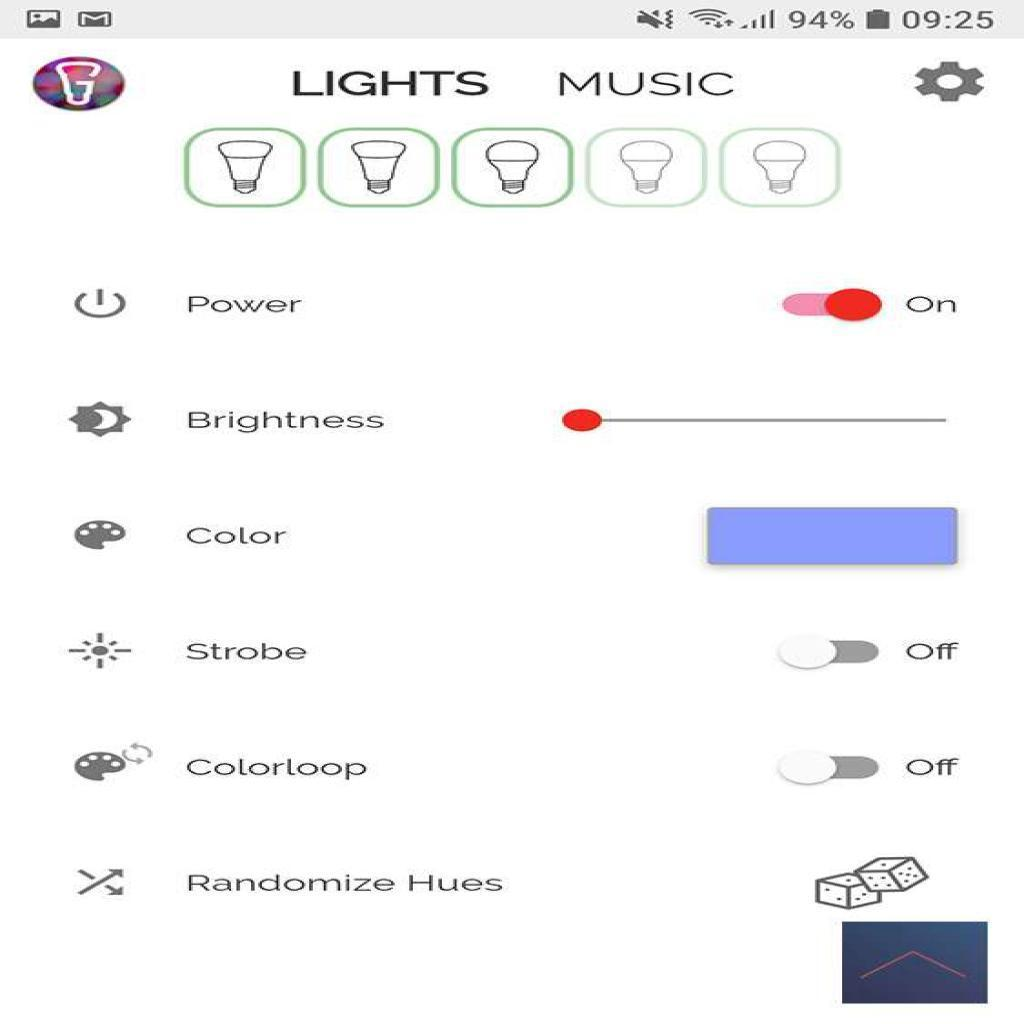icon: (67, 739, 154, 796), (909, 51, 990, 111), (67, 625, 143, 682), (67, 852, 139, 911), (69, 391, 139, 445), (72, 508, 133, 565), (71, 279, 133, 331)
slider: (537, 405, 976, 440)
switch: (766, 632, 897, 679), (769, 278, 891, 327), (776, 743, 897, 788)
